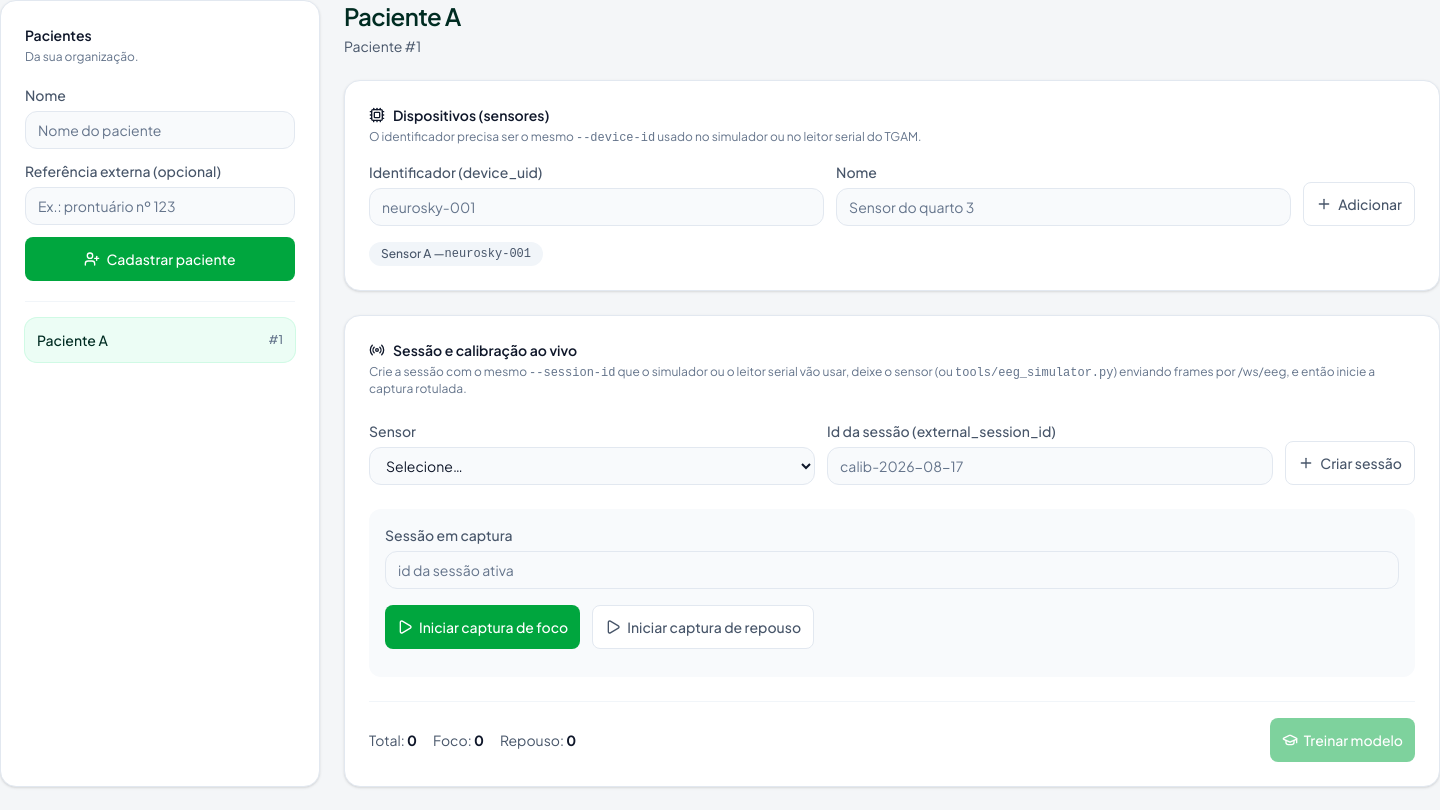
PatientsPage › inicia e para a captura de calibração rotulada
Expected: the heading "Paciente A" is shown, [344,1,461,31]
Step 1. Type "sess-001" into the field with placeholder "id da sessão ativa" → (892, 570), box [385,551,1399,589]
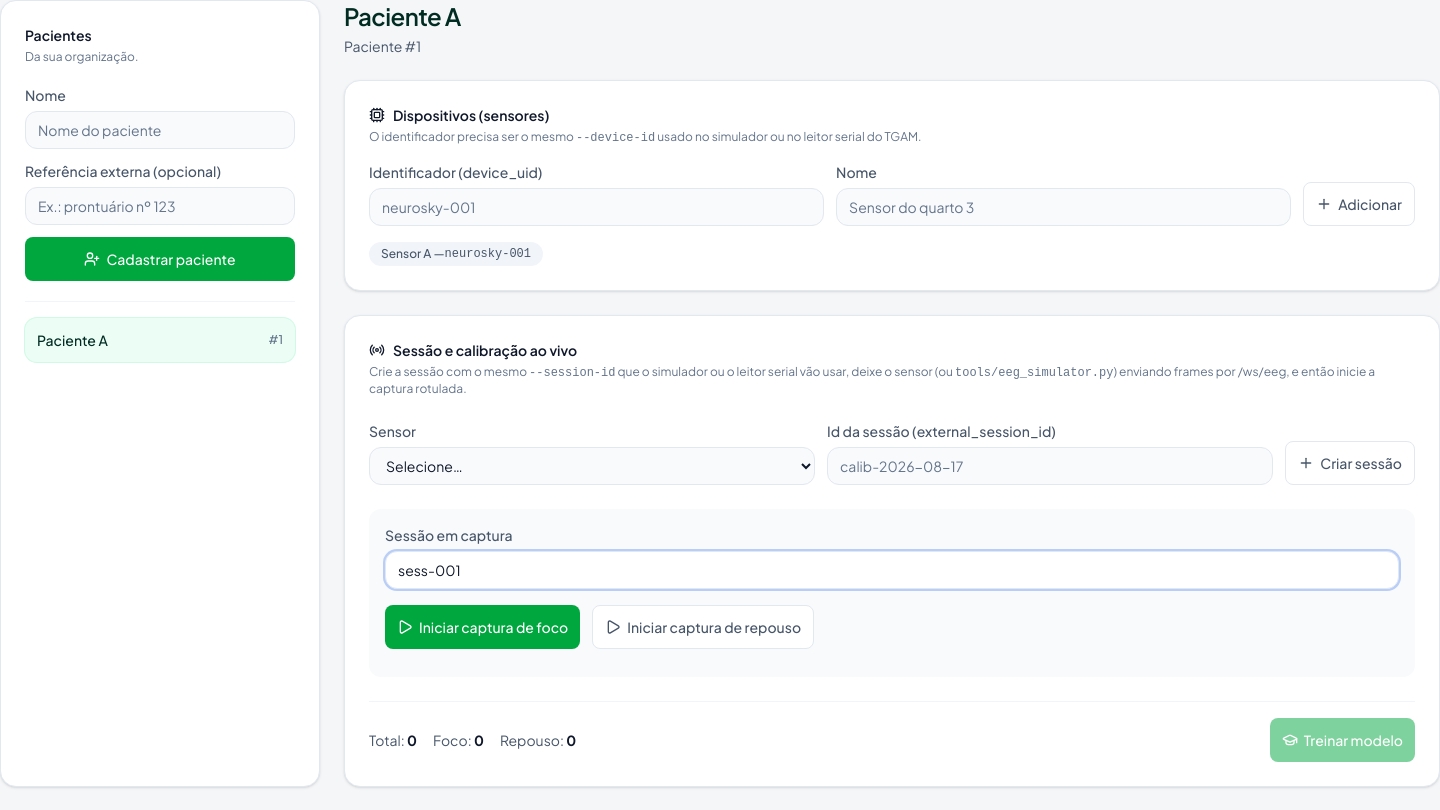
Step 2. Click the button "Iniciar captura de foco" → (483, 627), box [385,605,580,649]
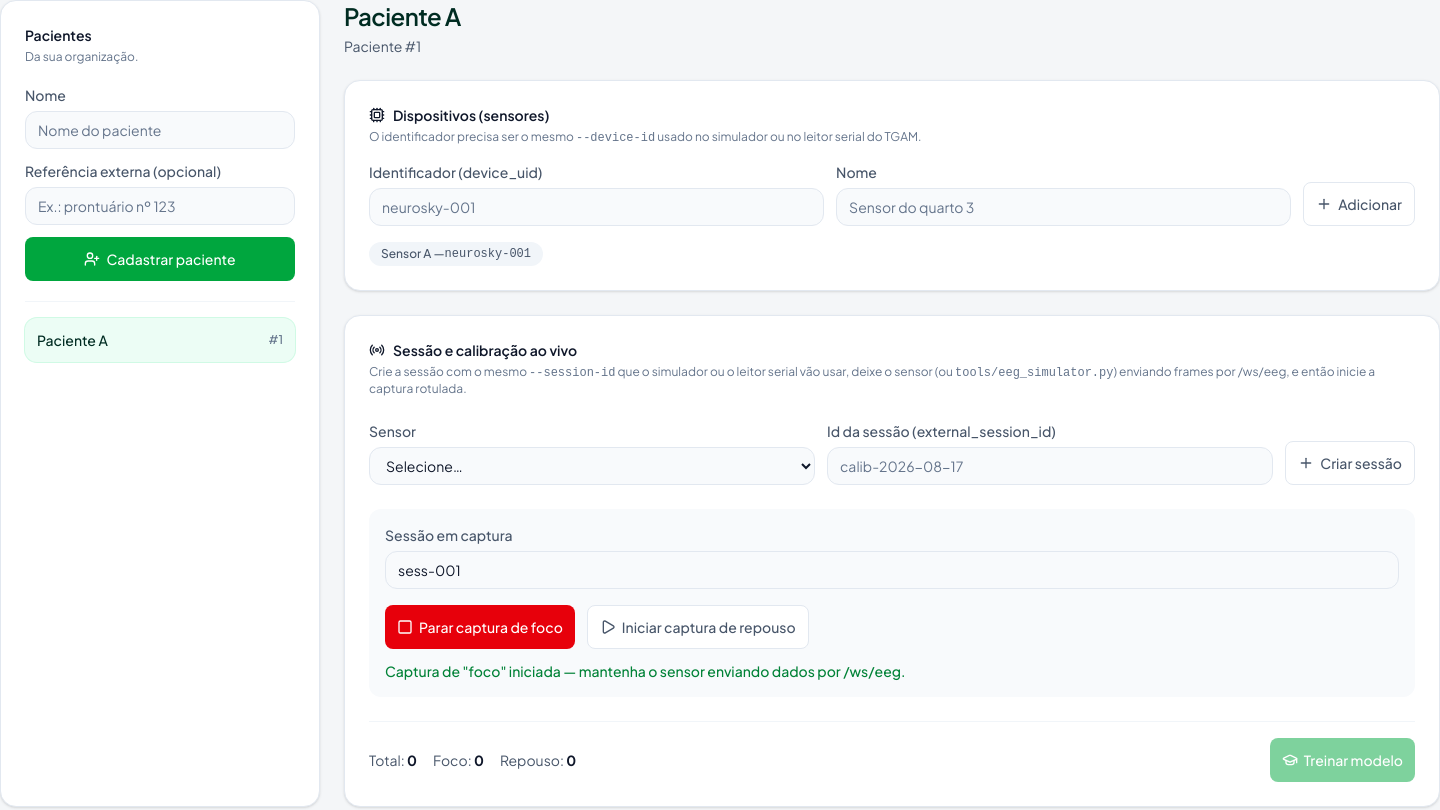
Now the button "Parar captura de foco" is shown
Step 3. Click the button "Parar captura de foco" → (480, 627), box [385,605,575,649]
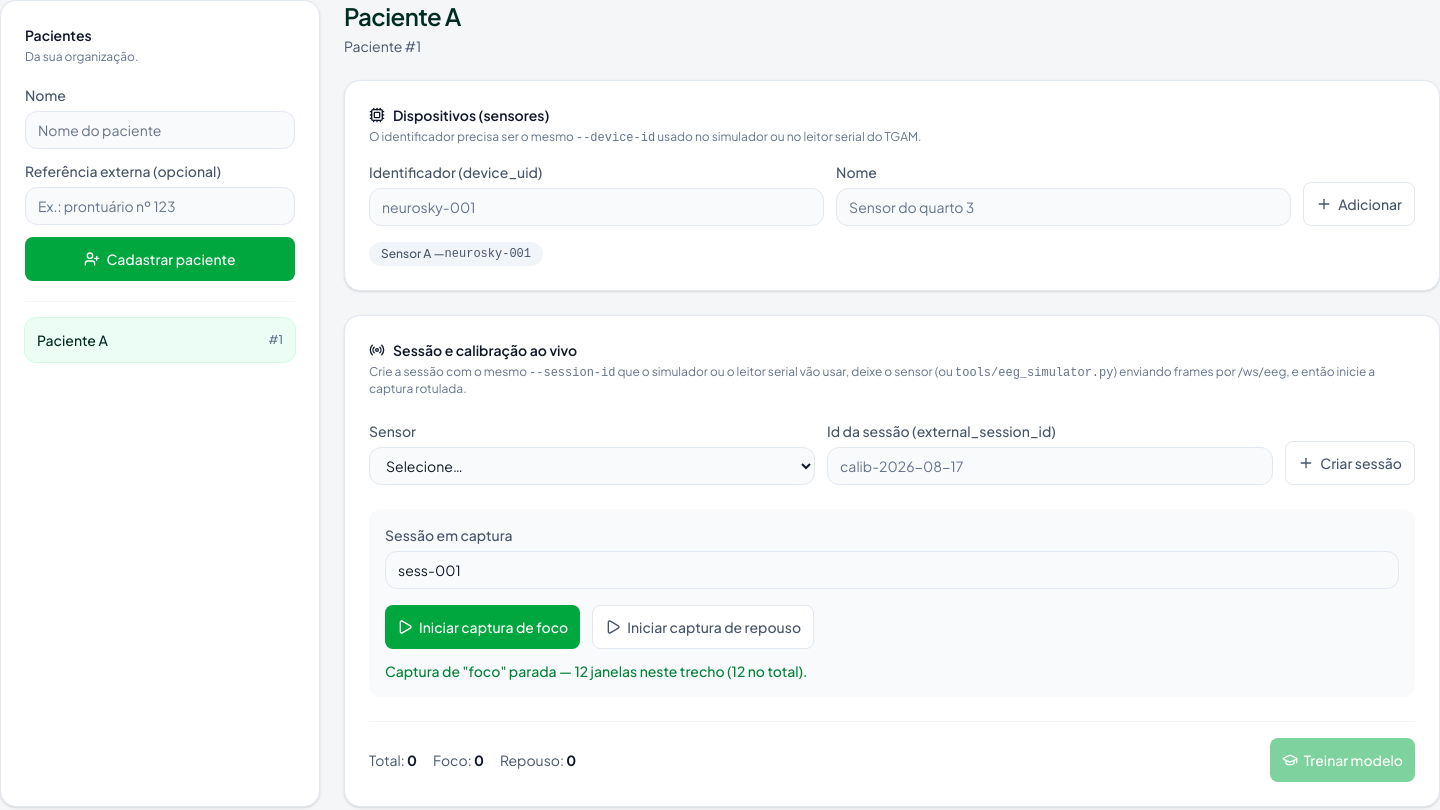
Now the button "Iniciar captura de foco" is shown, box [385,605,580,649]
